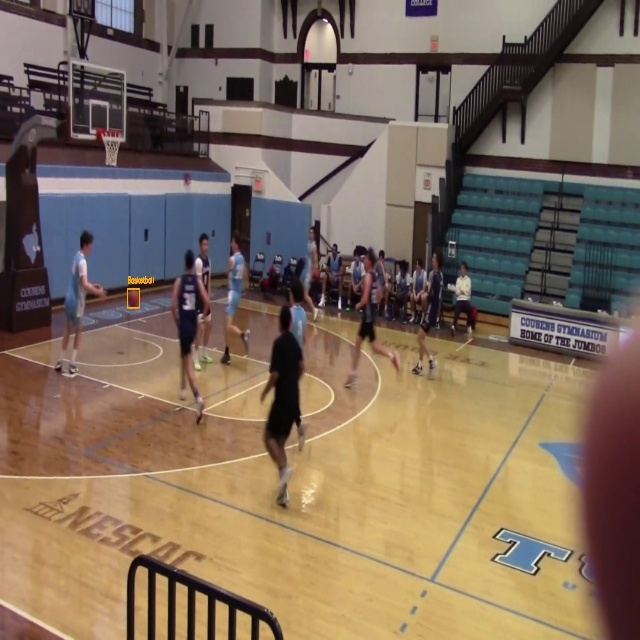Basketball: (128, 289, 140, 308)
